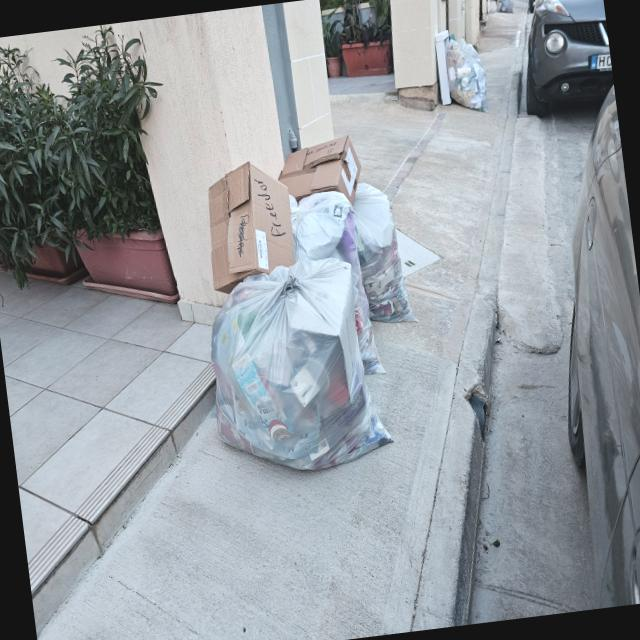grey_bag: (200, 260, 398, 480), (352, 178, 420, 328), (289, 190, 359, 268)
other_waste: (198, 156, 296, 277), (278, 133, 362, 194)
